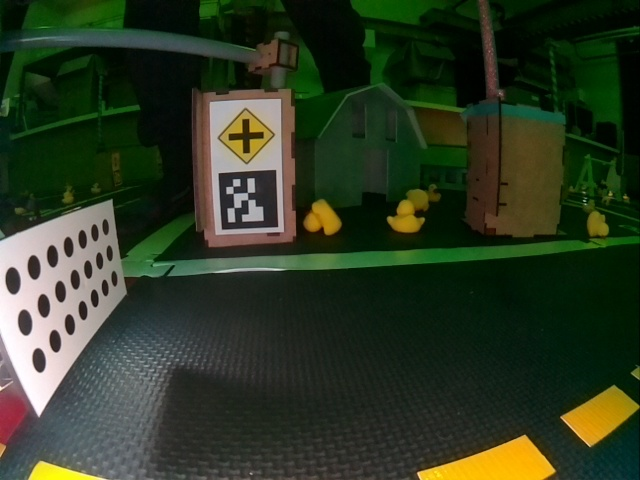Duckie: (306, 200, 341, 236), (387, 201, 424, 232), (586, 211, 610, 238), (407, 188, 428, 211), (428, 184, 442, 202), (62, 192, 74, 204), (91, 183, 101, 193)
Duckiebot: (0, 198, 128, 446)
Intersection sign: (215, 104, 277, 165)
QR code: (219, 169, 279, 232)
